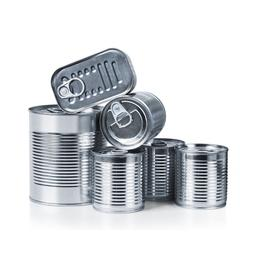metal: (25, 97, 104, 222), (40, 50, 144, 103), (83, 145, 151, 218), (96, 88, 171, 150)
